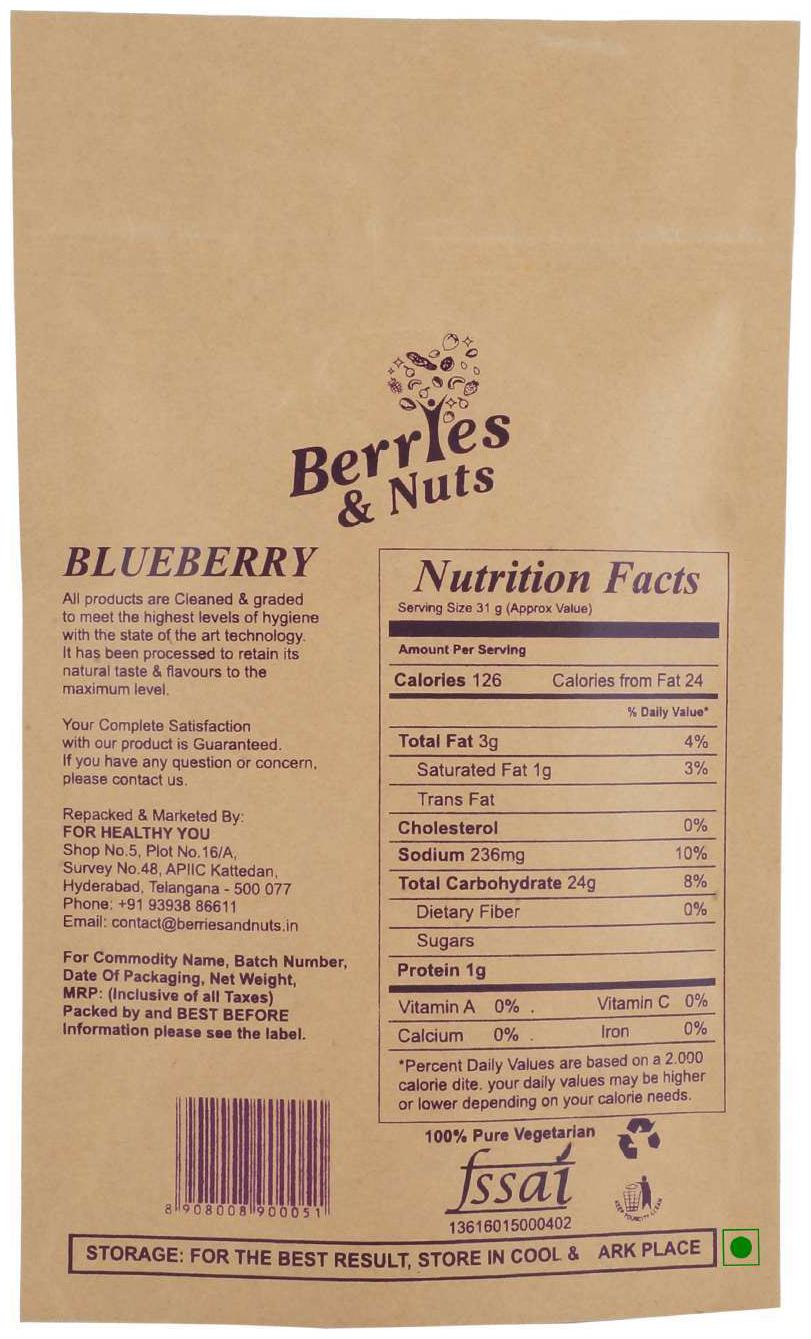fssai: (444, 1146, 583, 1216)
